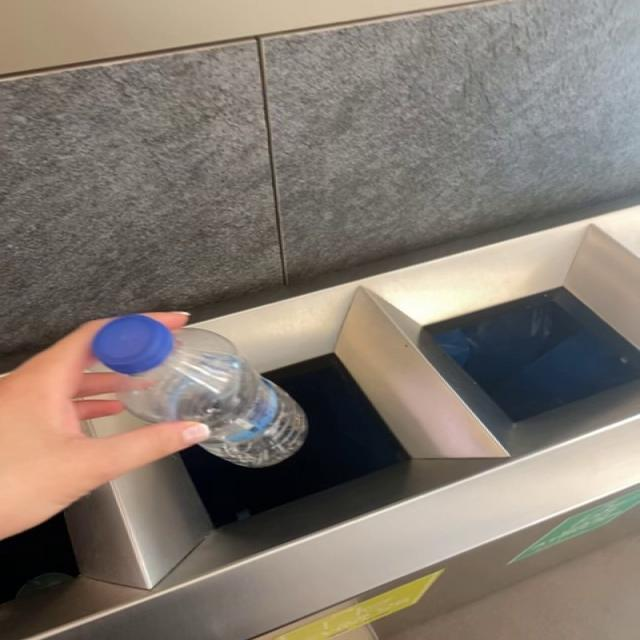Plastic: (92, 315, 308, 468)
